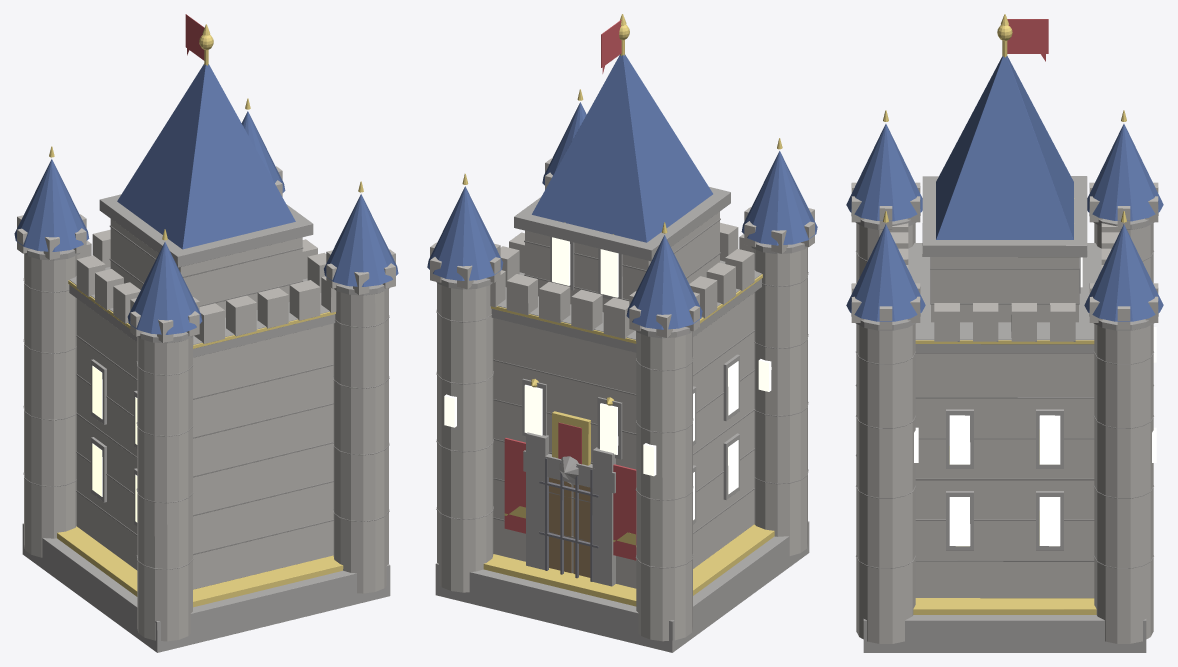
Rendered from castle_keep.glb.
3 views of the same model, side by side, from view 1: azimuth 30°, elevation 25°; view 2: azimuth 150°, elevation 25°; view 3: azimuth 270°, elevation 25° (orthographic). The views are drawn at different scales.
Visible parts, largest first — view 1: castle_keep; view 2: castle_keep; view 3: castle_keep.
Boxes of the visible parts, x1,y1,x2,y2 form: castle_keep: (14, 14, 398, 652); castle_keep: (427, 14, 817, 652); castle_keep: (846, 14, 1163, 652).
Size of the model in its own units: 4.91 by 9.93 by 4.94.
